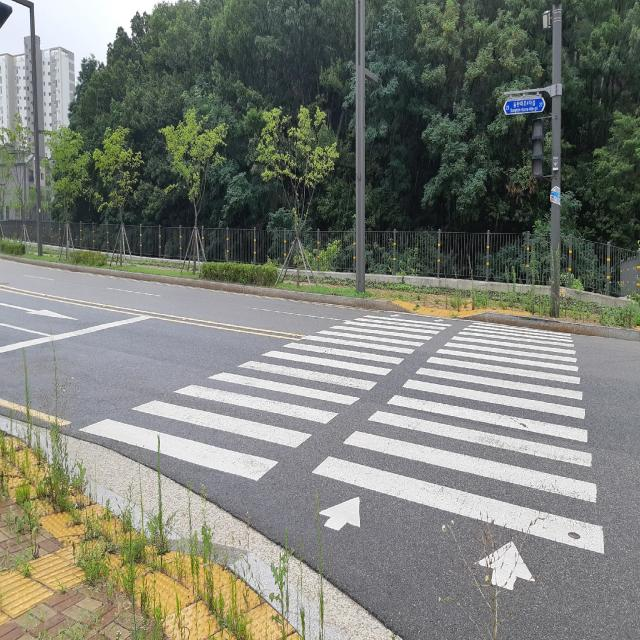횡단보도: (79, 310, 604, 590)
